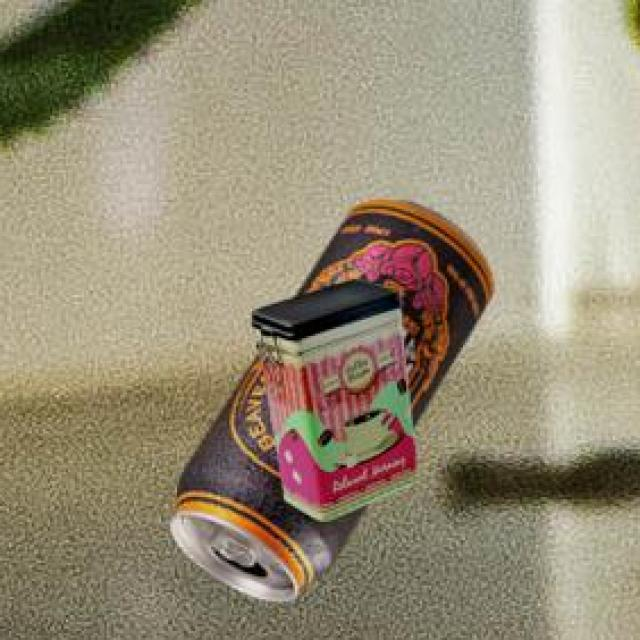logam: (167, 199, 491, 598), (249, 276, 414, 516)
